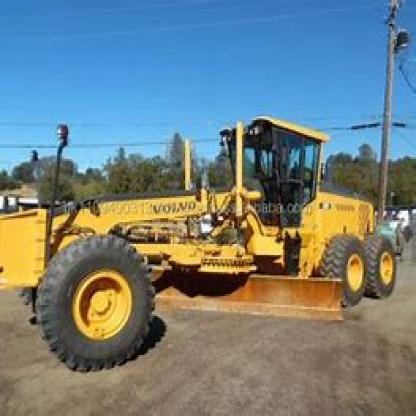bull_dozer/loader/grader: (0, 102, 414, 368)
